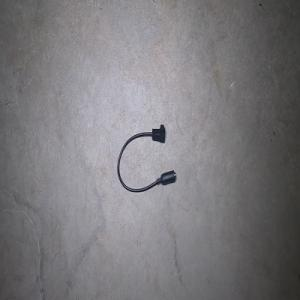Wire: (117, 124, 176, 192)
